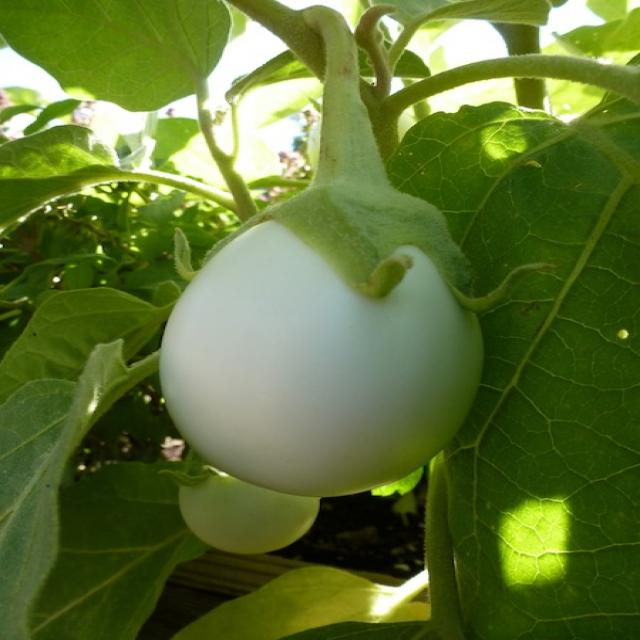eggplant: (160, 179, 488, 493)
